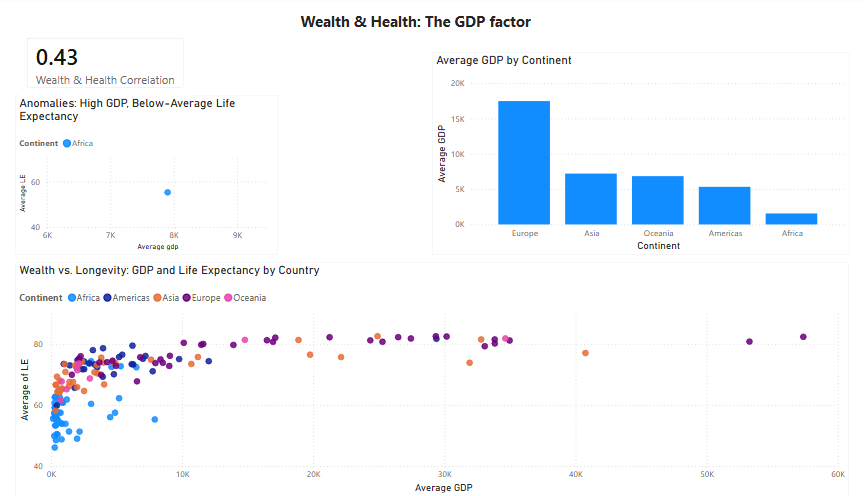

What the dashboard file says about the page in this screenshot:
{"tool":"powerbi","page":{"name":"Page 2","canvas":[1280,720],"ordinal":1},"visuals":[{"type":"scatterChart","title":"Wealth vs. Longevity: GDP and Life Expectancy by Country","fields":{"Category":["v_Dim_Geography.Country"],"Y":["Avg(v_Fact_LifeExpectancy.Life_Expectancy)"],"X":["Avg(v_Fact_LifeExpectancy.GDP)"],"Series":["v_Dim_Geography.Continent"]},"box":[38.9,381.6,1201,338.4],"z":0},{"type":"clusteredColumnChart","title":"Average GDP by Continent","fields":{"Y":["_Measure Bank.Global_Avg_GDP"],"Category":["v_Dim_Geography.Continent"]},"box":[639.4,79.2,601.9,292.3],"z":1000},{"type":"scatterChart","title":"Anomalies: High GDP, Below-Average Life Expectancy","fields":{"X":["Sum(v_Dim_Anomalies_GDP.avg_gdp)"],"Y":["Sum(v_Dim_Anomalies_GDP.avg_life_expectancy)"],"Category":["v_Dim_Anomalies_GDP.country"],"Series":["v_Dim_Geography.Continent"]},"box":[38.9,141.1,378.7,230.4],"z":2000},{"type":"cardVisual","fields":{"Data":["_Measure Bank.GDP_LifeExpectancy_Correlation"]},"box":[38.9,41.8,260.6,106.6],"z":3000},{"type":"textbox","box":[417.6,15.8,396,47.5],"z":4000}]}

Visuals, with their boxes in screenshot pixels (x1, y1, x2, y2), scaled from the page's 1280x720 canvas onto the 864x496 screenshot:
"Wealth vs. Longevity: GDP and Life Expectancy by Country" scatterChart: crop(26, 263, 837, 495)
"Average GDP by Continent" clusteredColumnChart: crop(432, 55, 838, 256)
"Anomalies: High GDP, Below-Average Life Expectancy" scatterChart: crop(26, 97, 282, 256)
cardVisual - _Measure Bank.GDP_LifeExpectancy_Correlation: crop(26, 29, 202, 102)
textbox: crop(282, 11, 549, 44)
